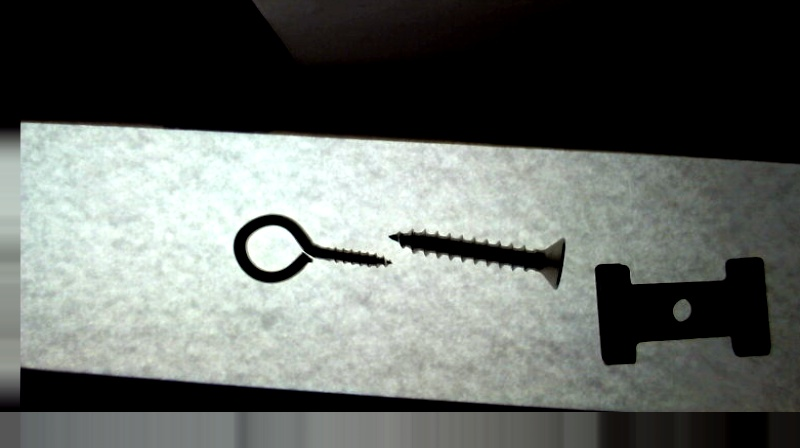O001: (232, 215, 391, 285)
O002: (592, 258, 770, 365)
S001: (387, 228, 565, 290)
